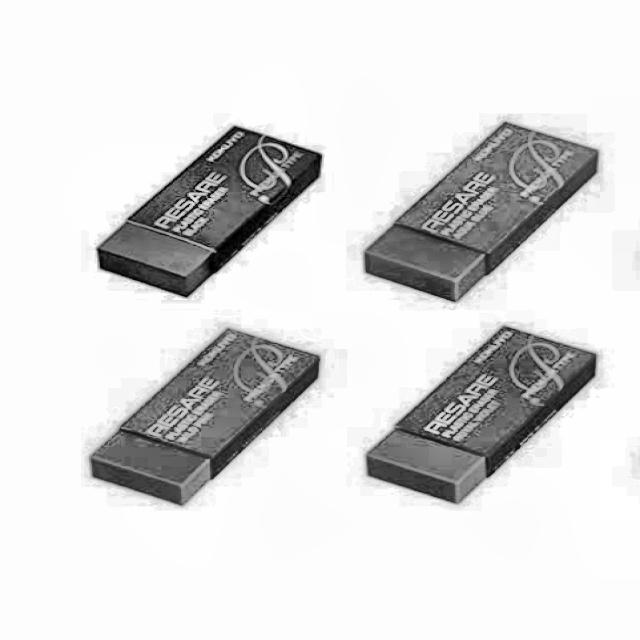eraser: (357, 116, 606, 307), (360, 320, 602, 510), (86, 322, 326, 513), (88, 118, 327, 304)
